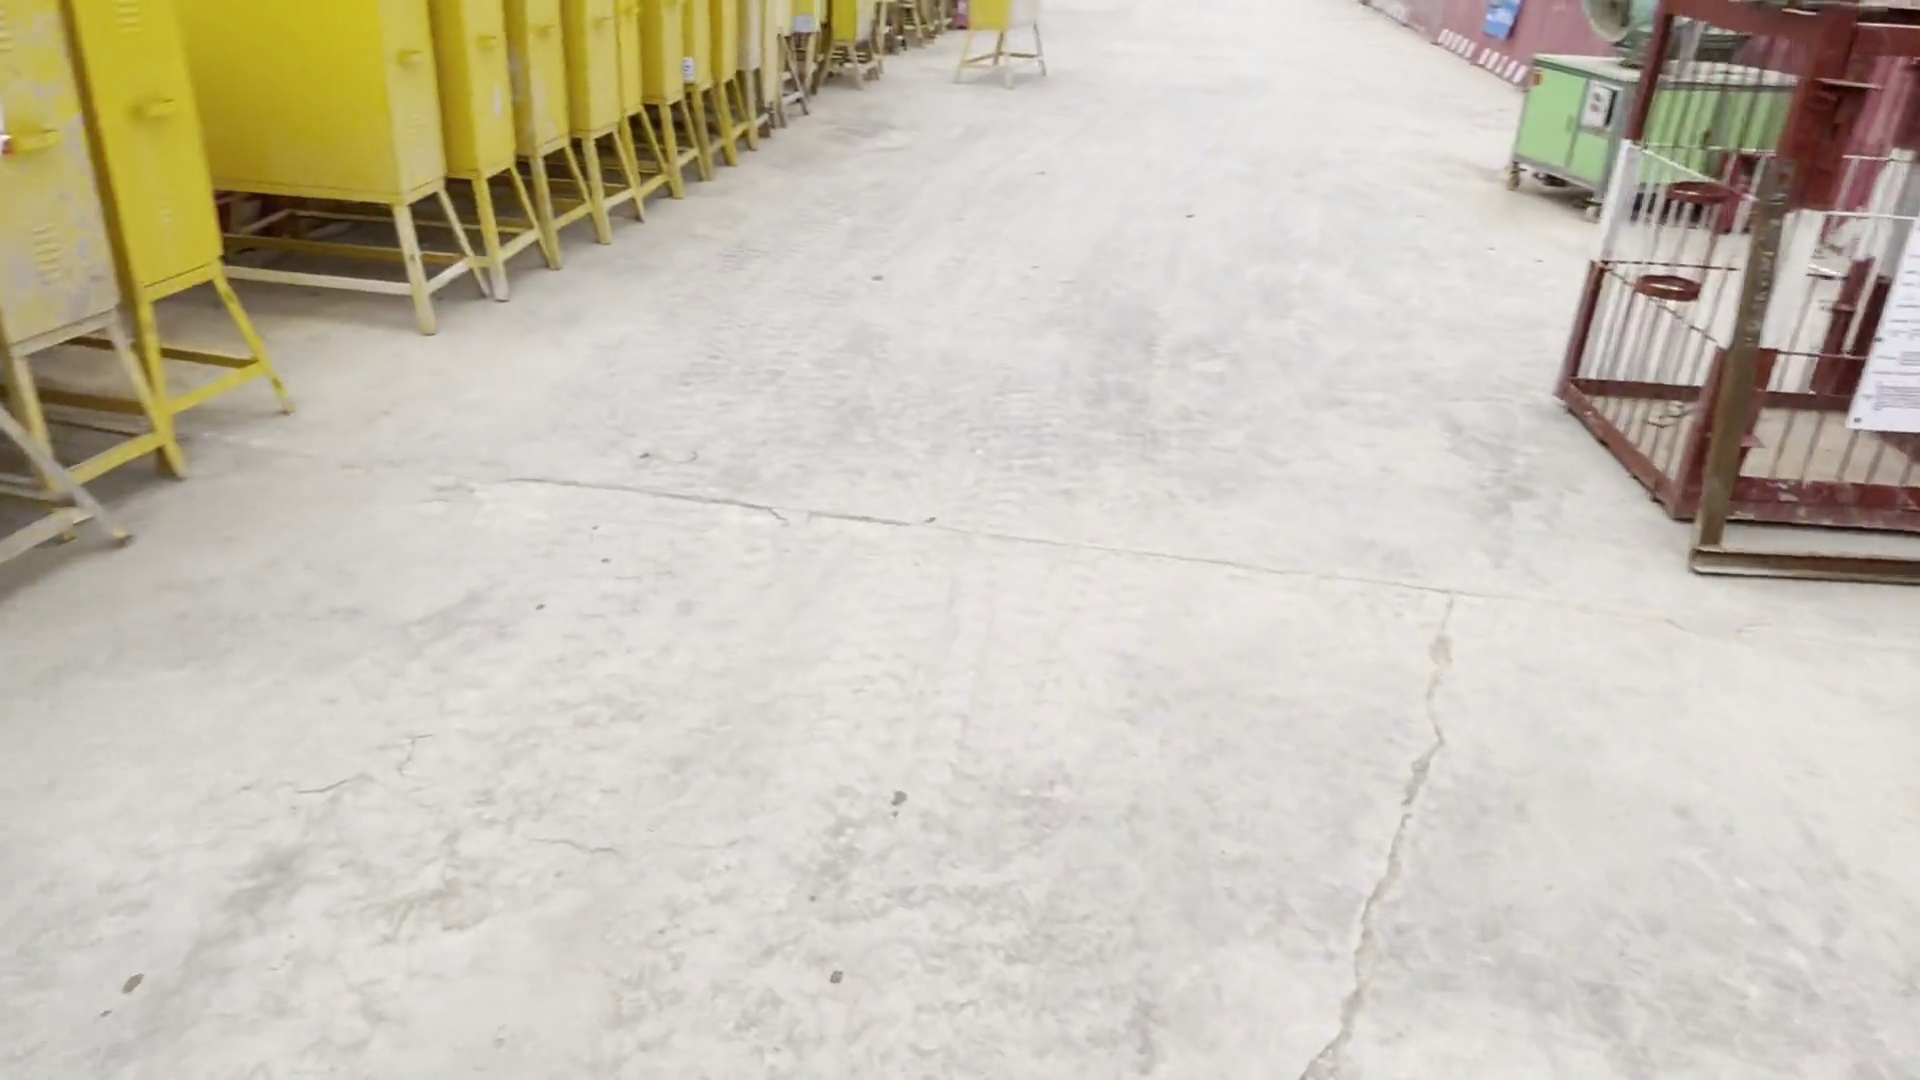ebox: (1, 1, 196, 501), (86, 1, 301, 433), (206, 1, 491, 316), (425, 1, 529, 266), (508, 1, 607, 249), (964, 1, 1059, 84)
